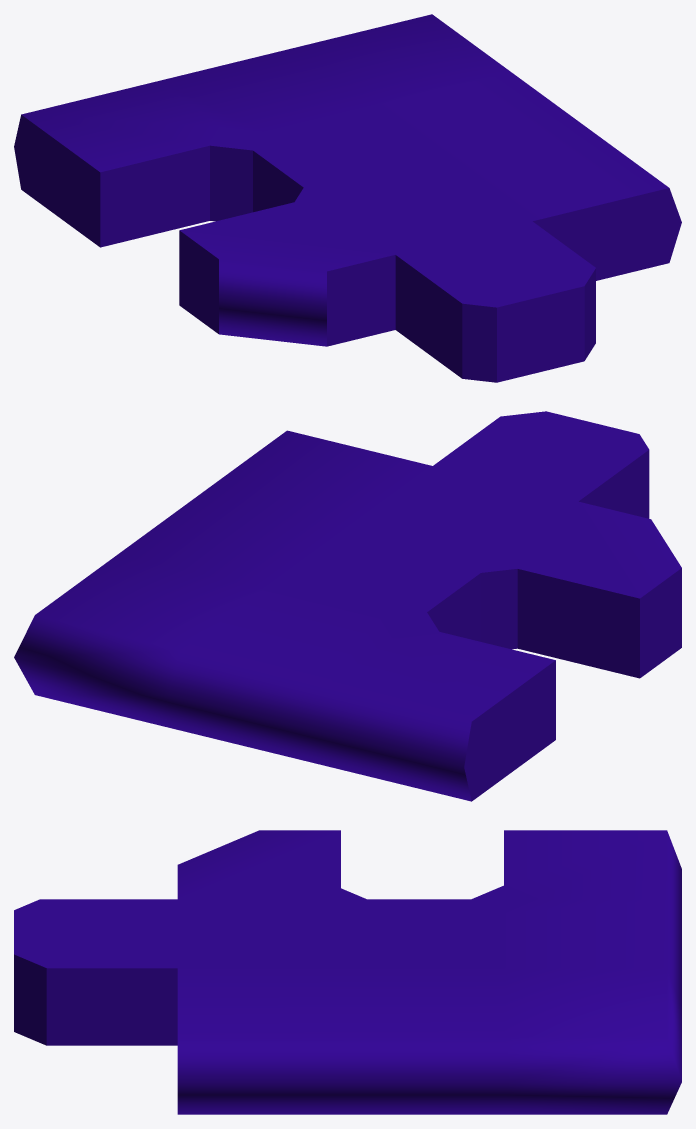
File: blue.fbx
3 renders of one model, top to bottom at view 1: azimuth 30°, elevation 25°; view 2: azimuth 150°, elevation 25°; view 3: azimuth 270°, elevation 25°, orthographic. The views are drawn at different scales.
Visible parts, largest first — view 1: pCube2; view 2: pCube2; view 3: pCube2.
Part boxes in pixels (<box>): pCube2: <box>14,14,681,382</box>; pCube2: <box>14,411,681,801</box>; pCube2: <box>14,830,681,1114</box>.
Bounding box in the file's own units: 6.29 × 1.07 × 8.33.
